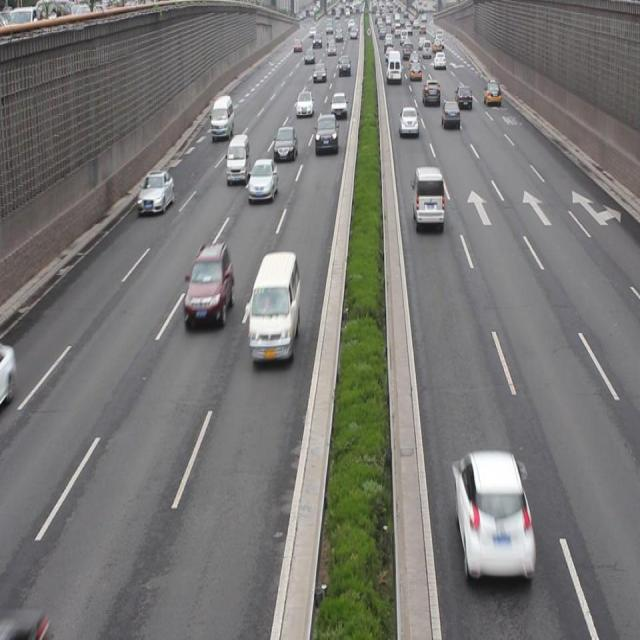car: (449, 450, 533, 579), (186, 245, 232, 326), (138, 171, 176, 212), (245, 159, 278, 200), (313, 113, 340, 154), (274, 125, 297, 158), (398, 108, 418, 135), (441, 102, 459, 126)
truck: (248, 255, 299, 364), (410, 168, 443, 226), (226, 133, 250, 185), (210, 95, 234, 142)
